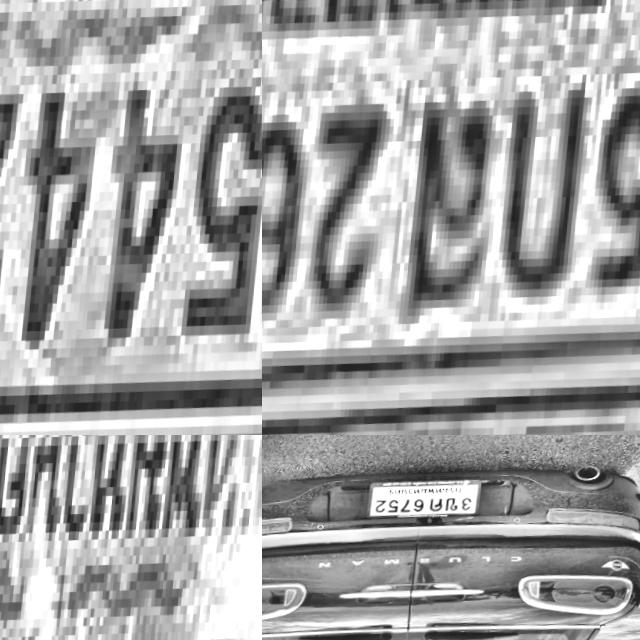license-plate: (262, 0, 640, 435), (0, 0, 262, 435), (0, 435, 262, 640), (371, 477, 488, 529)
